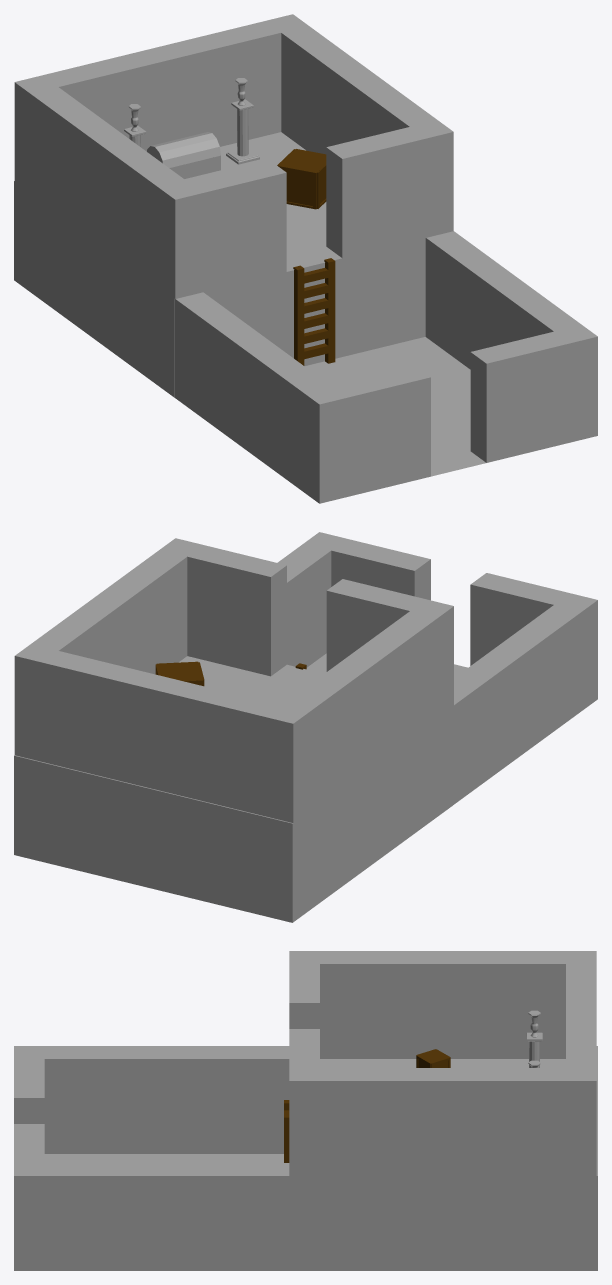
File: laddertoTreasureroom.fbx
3 views of the same model, one above another, from view 1: azimuth 30°, elevation 25°; view 2: azimuth 150°, elevation 25°; view 3: azimuth 270°, elevation 25° (orthographic). The views are drawn at different scales.
Parts seen in each view (by area): view 1: polySurface347; view 2: polySurface347; view 3: polySurface347.
Boxes of the visible parts, x1,y1,x2,y2 form: polySurface347: (14, 14, 597, 503); polySurface347: (14, 532, 597, 922); polySurface347: (14, 951, 597, 1270).
Bounding box in the file's own units: 23.76 × 16.2 × 45.11.
